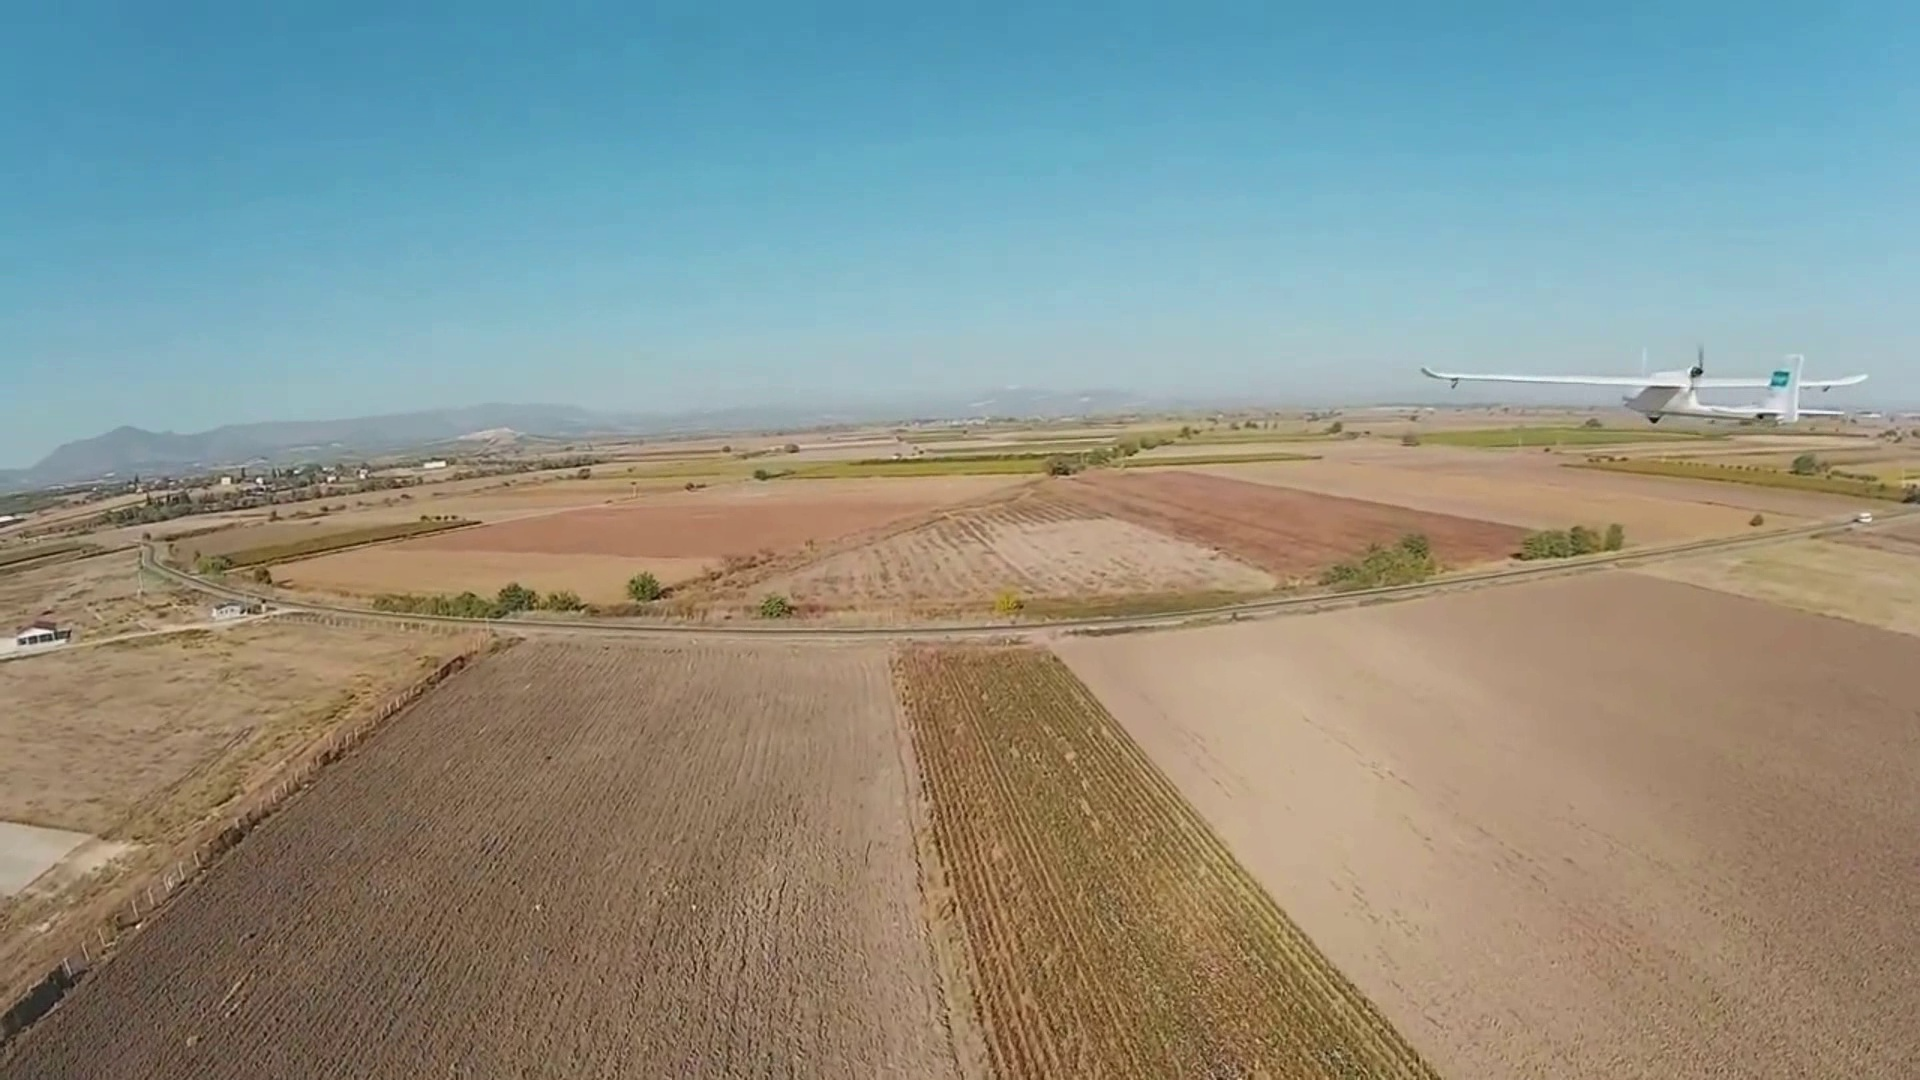airplane: (1419, 344, 1845, 429), (1419, 352, 1698, 421)
